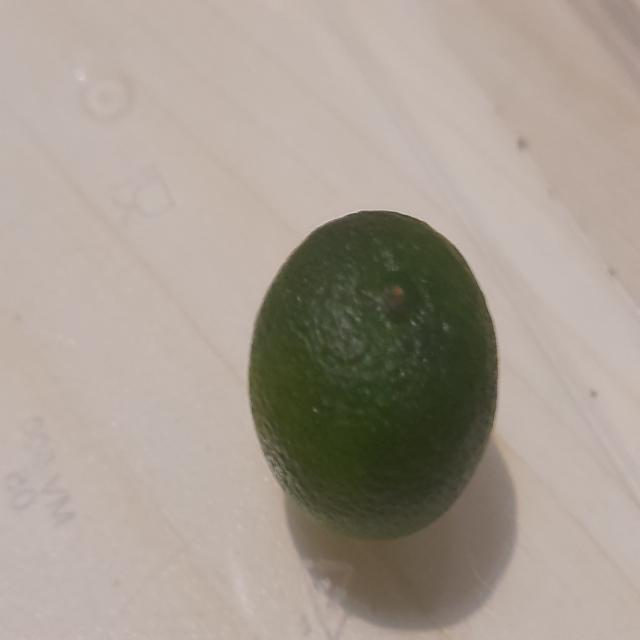heathy: (246, 203, 504, 546)
